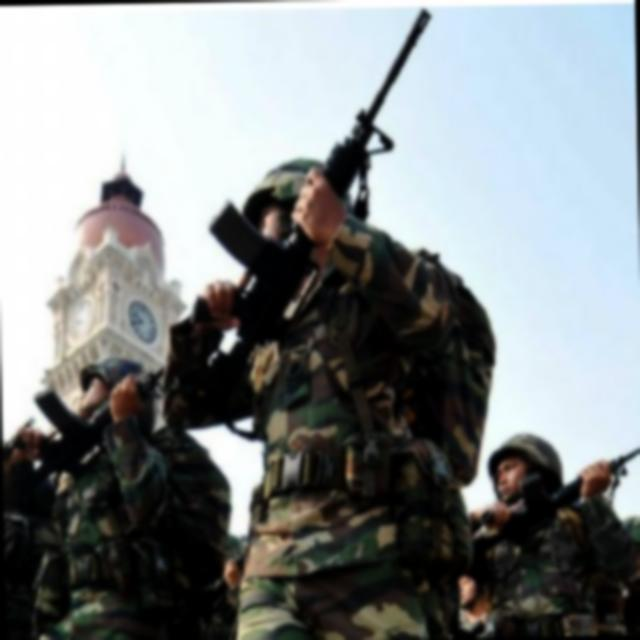m16: (154, 30, 620, 486)
